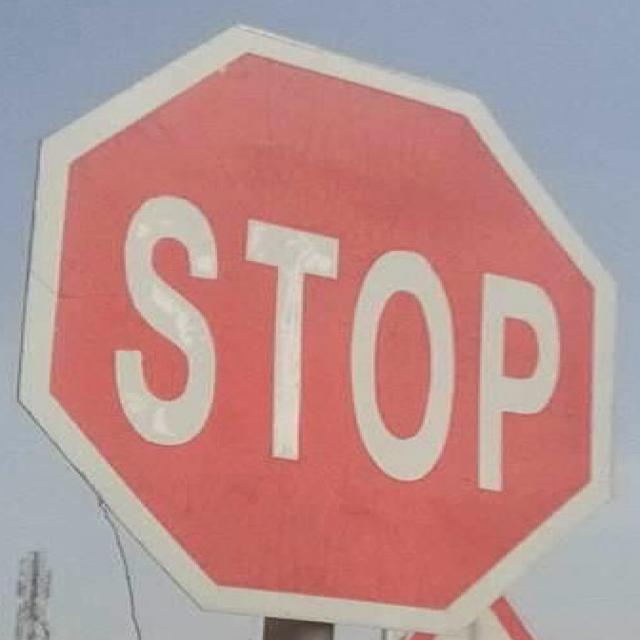stop: (18, 21, 623, 624)
